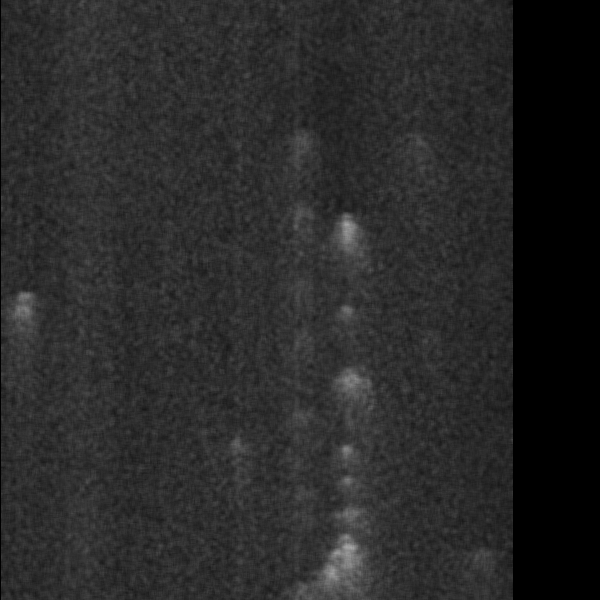spark: (411, 162, 434, 213), (107, 316, 150, 338), (119, 526, 150, 548)
